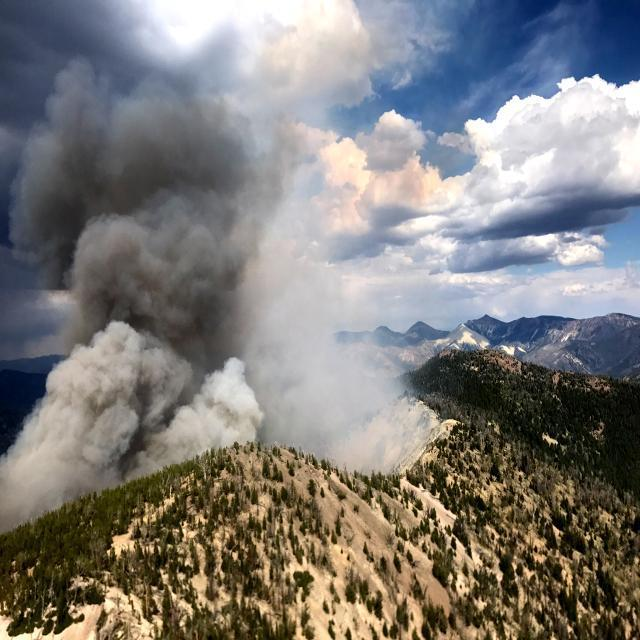Smoke: (0, 0, 458, 481)
